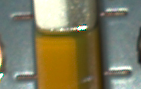border: (102, 67, 134, 79), (11, 71, 40, 84), (98, 8, 131, 19), (9, 12, 35, 23)
liquidlevel: (33, 26, 102, 43)
